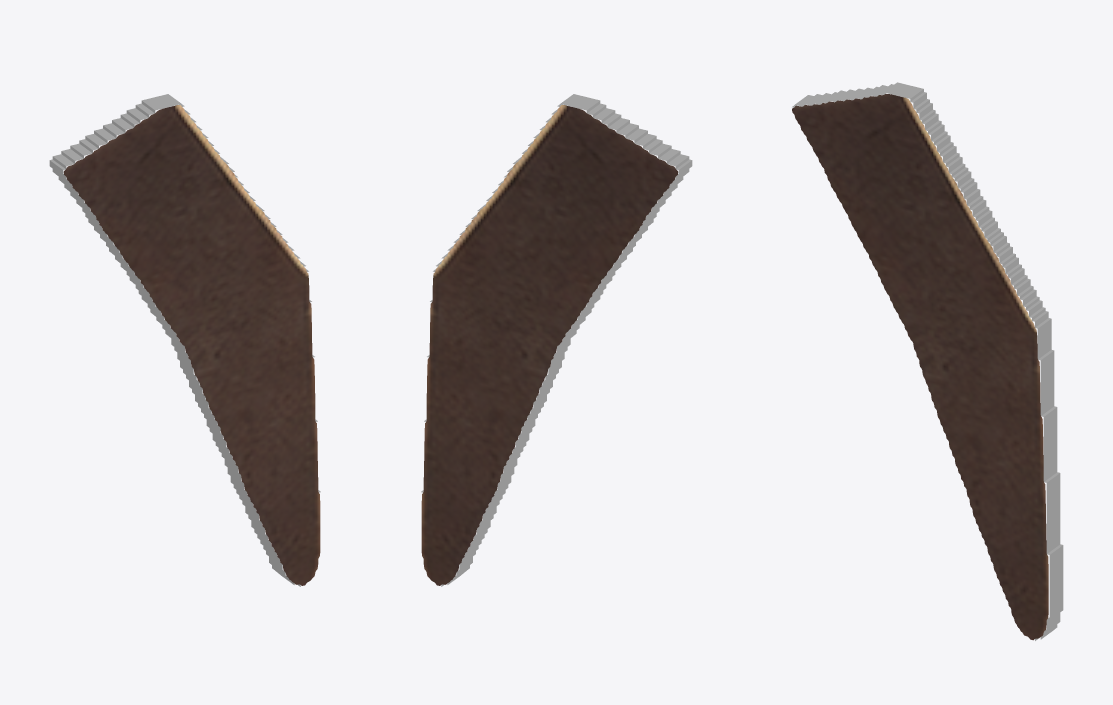
The model's file is Variant04Lower.glb.
The picture shows the model from 3 angles, left to right: view 1: azimuth 30°, elevation 25°; view 2: azimuth 150°, elevation 25°; view 3: azimuth 330°, elevation 25°; orthographic projection.
Visible parts, largest first — view 1: PaperVolume; view 2: PaperVolume; view 3: PaperVolume.
Boxes of the visible parts, x1=… form: PaperVolume: x1=49, y1=94, x2=320, y2=586; PaperVolume: x1=421, y1=94, x2=692, y2=586; PaperVolume: x1=792, y1=82, x2=1063, y2=640.
Size of the model in its own units: 1.11 by 1.89 by 0.08.
Materials: 3 (2 with a texture image).
